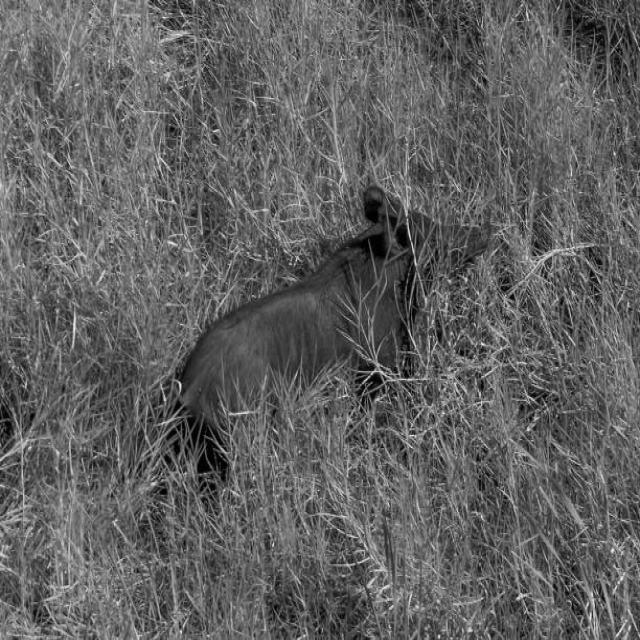boar: (178, 188, 493, 430)
